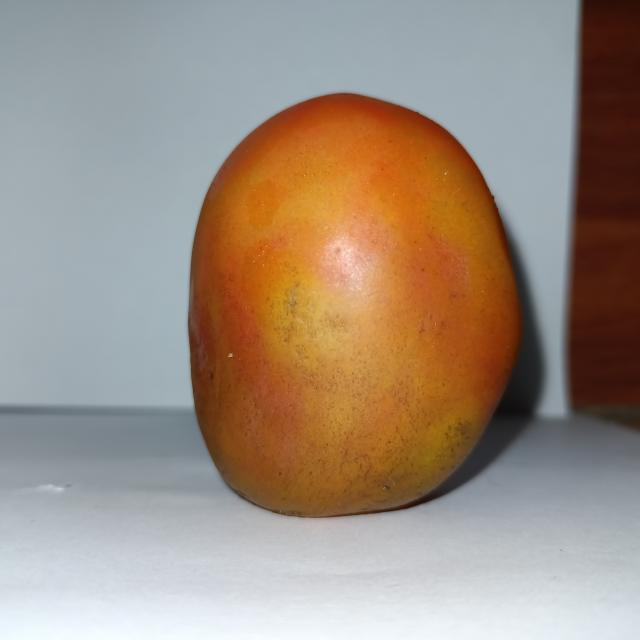Red: (185, 90, 523, 518)
